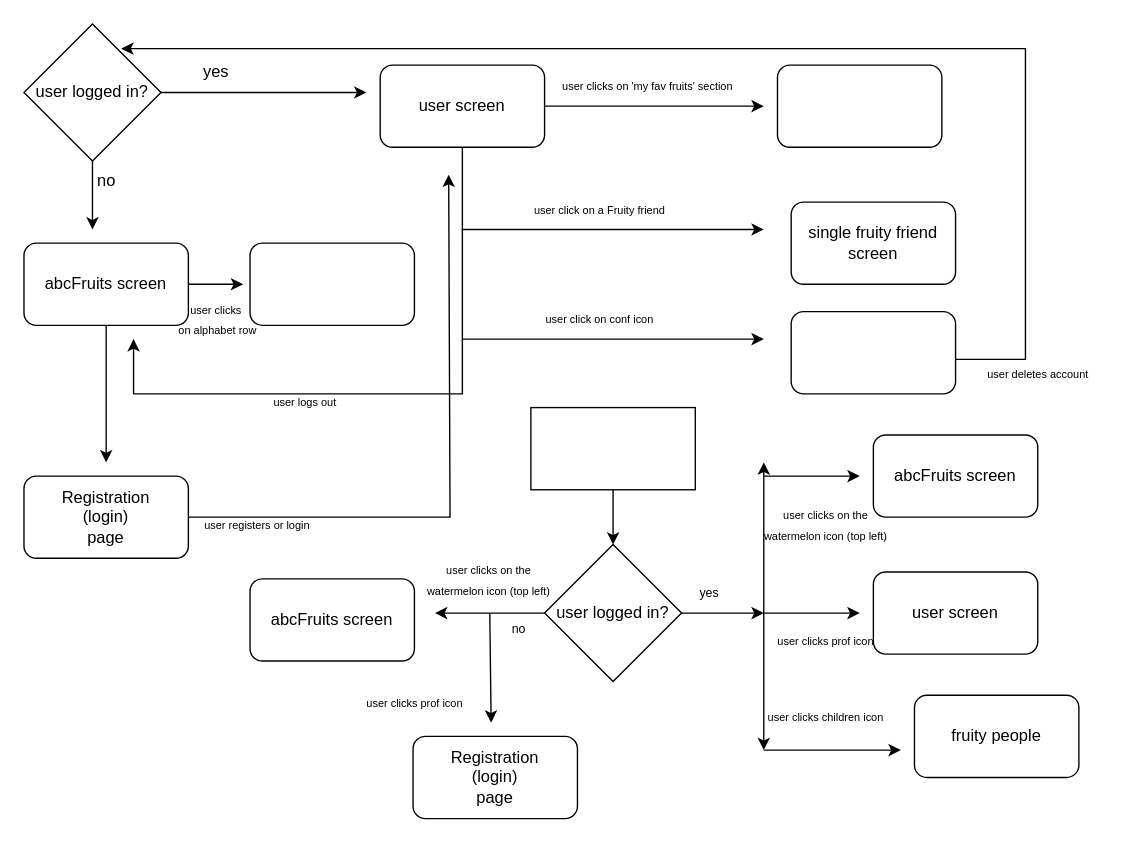
Some shapes in this 1130 by 843 pixel diagram are drawn without their labels. Here are the shapes that lost their labels. From the top down, the box of each, then its label:
(776, 64, 942, 147): My fav fruits screen
(249, 242, 414, 325): letter screen (displays all fruits starting with the letter)
(790, 310, 956, 394): alter your info screen
(530, 406, 695, 490): top general menu
